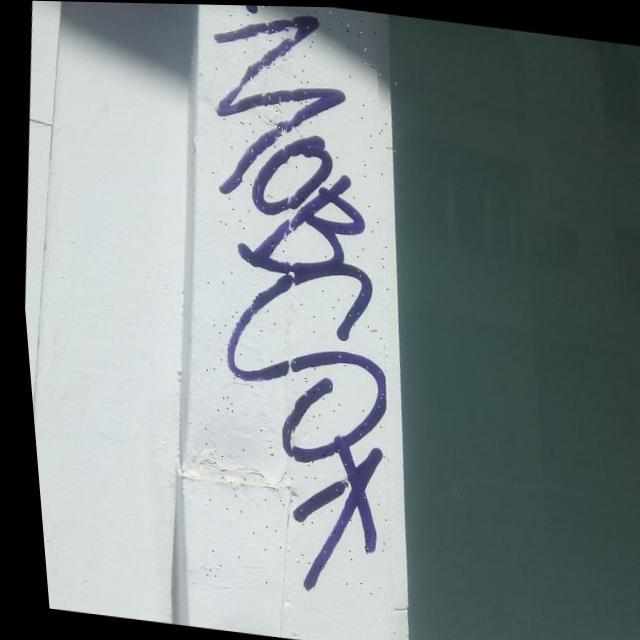-: (153, 3, 435, 601)
